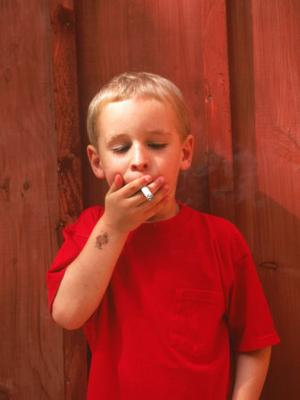person: (44, 71, 281, 399)
